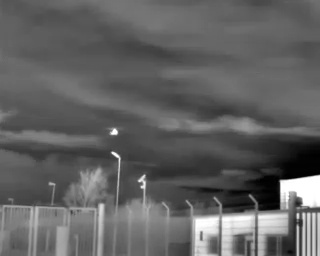HELICOPTER: (106, 124, 123, 140)
